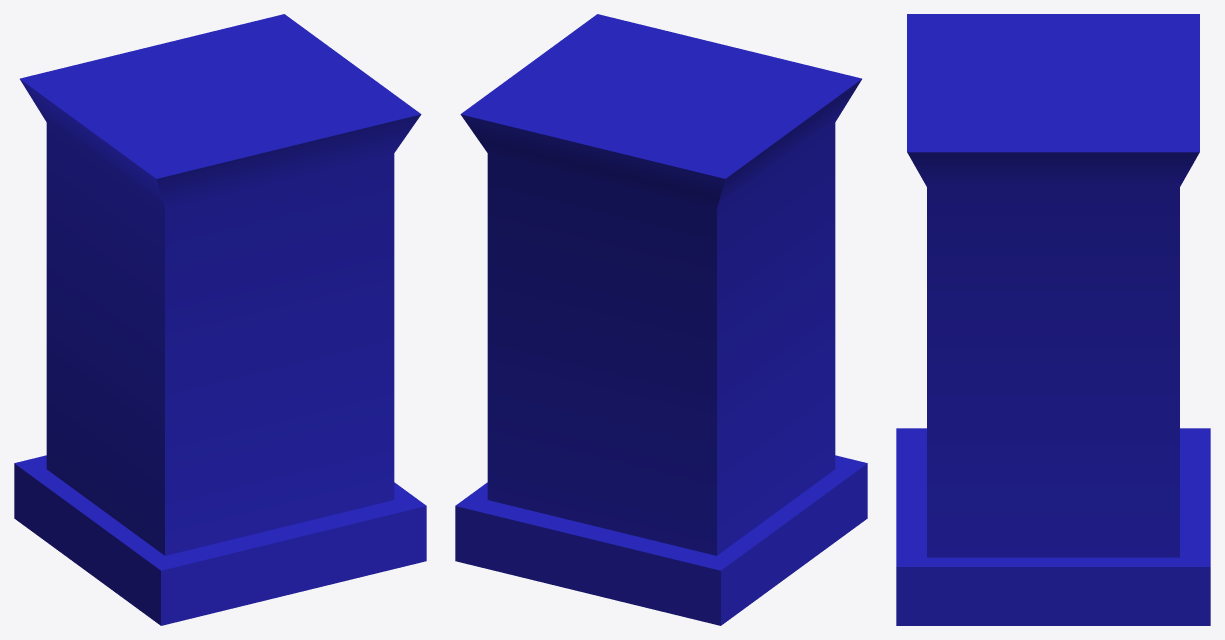
Rendered from palace_roof_top_fence_C.fbx.
3 views of the same model, side by side, from view 1: azimuth 30°, elevation 25°; view 2: azimuth 150°, elevation 25°; view 3: azimuth 270°, elevation 25° (orthographic). The views are drawn at different scales.
Parts seen in each view (by area): view 1: Fence_C; view 2: Fence_C; view 3: Fence_C.
Boxes of the visible parts, left/top/right/bottom form: Fence_C: left=14, top=14, right=426, bottom=625; Fence_C: left=455, top=14, right=867, bottom=625; Fence_C: left=896, top=14, right=1210, bottom=625.
Size of the model in its own units: 31.32 by 49.93 by 30.
